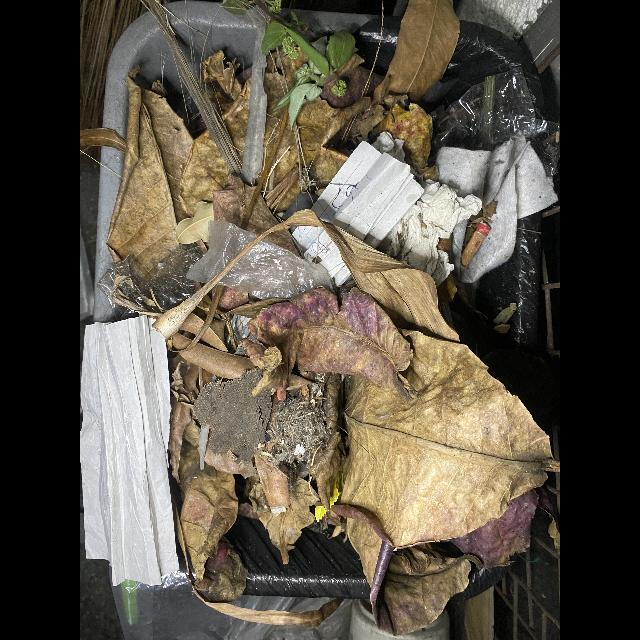biowaste: (337, 331, 560, 550), (152, 209, 460, 343), (106, 65, 228, 271), (332, 506, 483, 637), (247, 287, 414, 400), (213, 105, 289, 235), (384, 0, 460, 104), (450, 487, 544, 570), (248, 474, 320, 565), (181, 471, 239, 581), (193, 588, 340, 627), (193, 542, 249, 603), (178, 342, 256, 379), (168, 333, 193, 351)
paper: (80, 315, 181, 588), (311, 141, 424, 249), (292, 226, 351, 287)
plastic: (217, 239, 343, 306), (186, 221, 258, 284)
